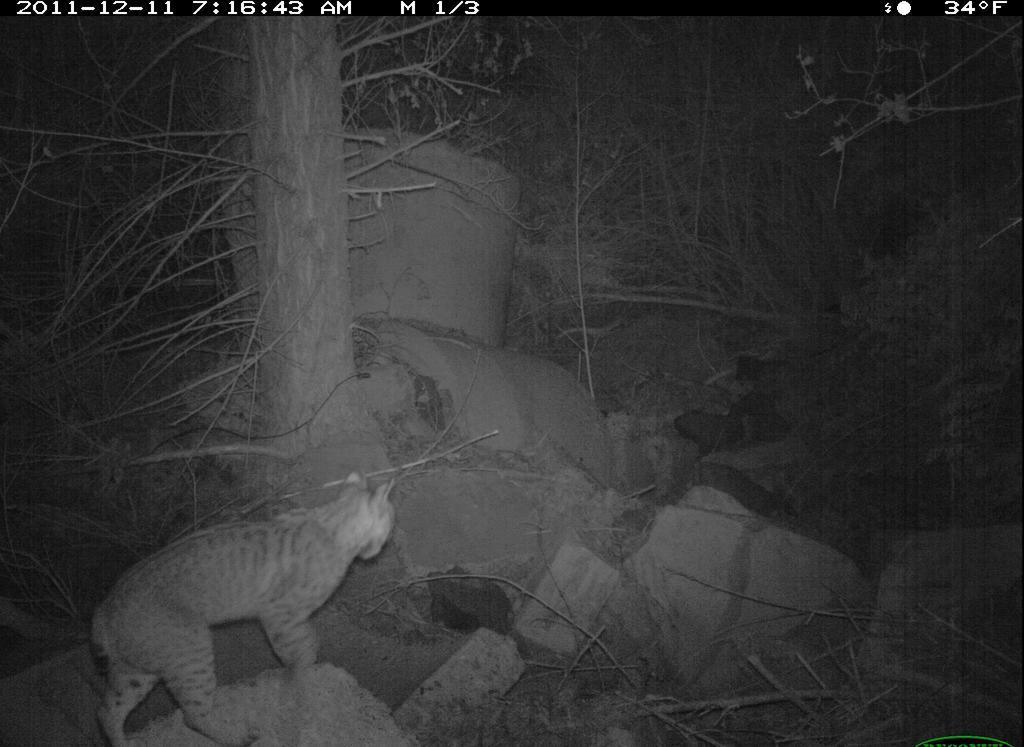bobcat: (76, 446, 425, 747)
